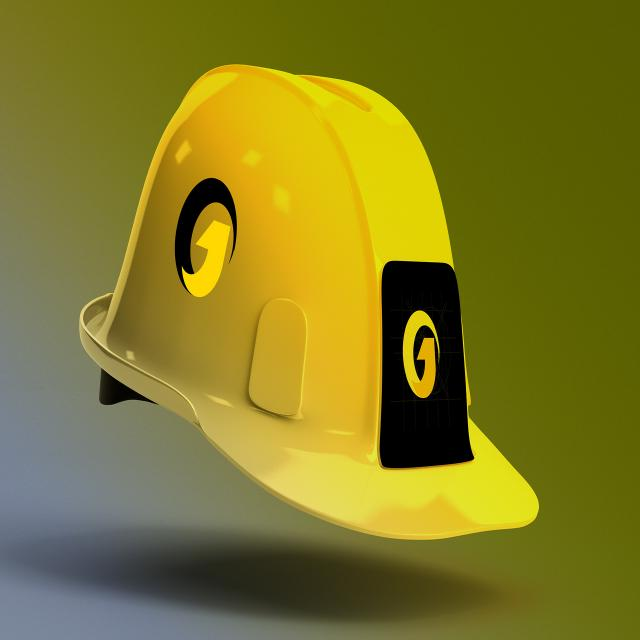Safety-Helmet: (76, 55, 542, 558)
